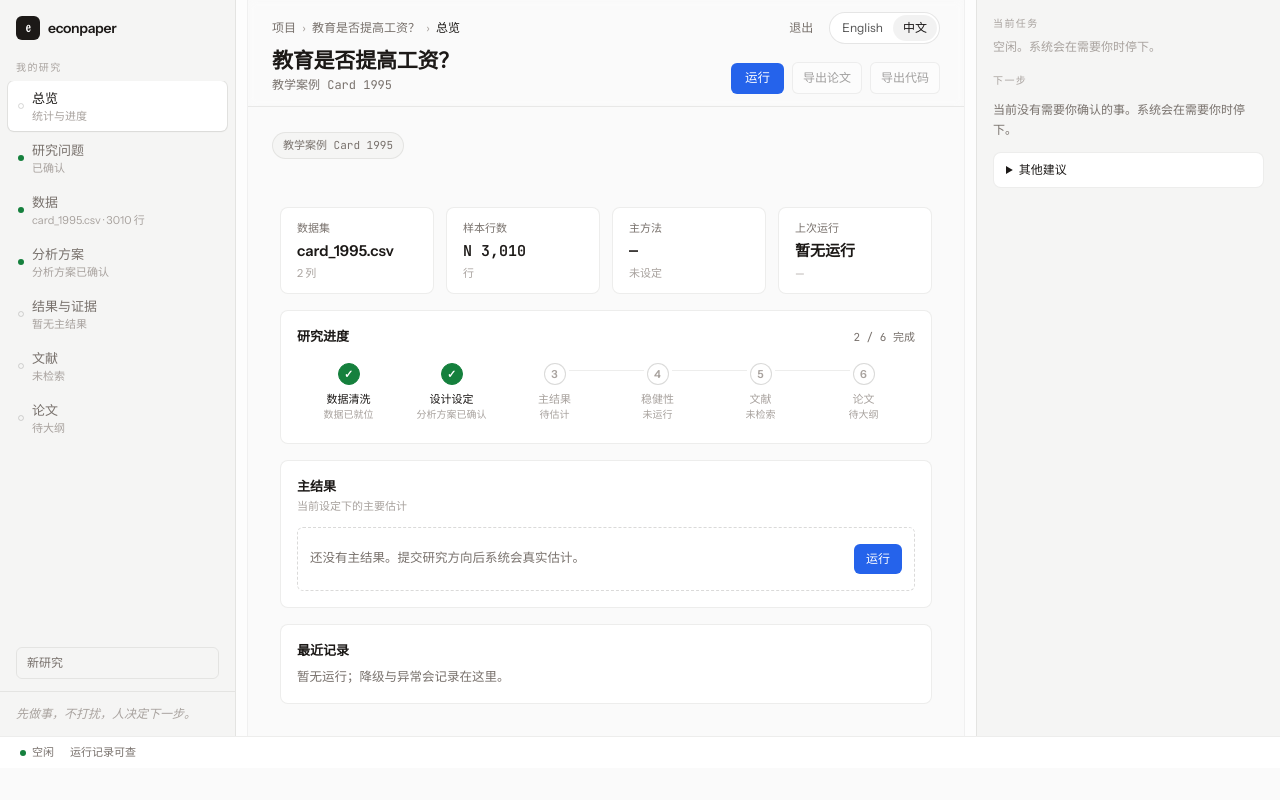
Test: language switch is display-only › Scene D: r3 surprise observed from backend outcomes re-renders per language with no writes
Click the button with test id "rail-evidence".
click(118, 314)  # box [8,289,227,339]
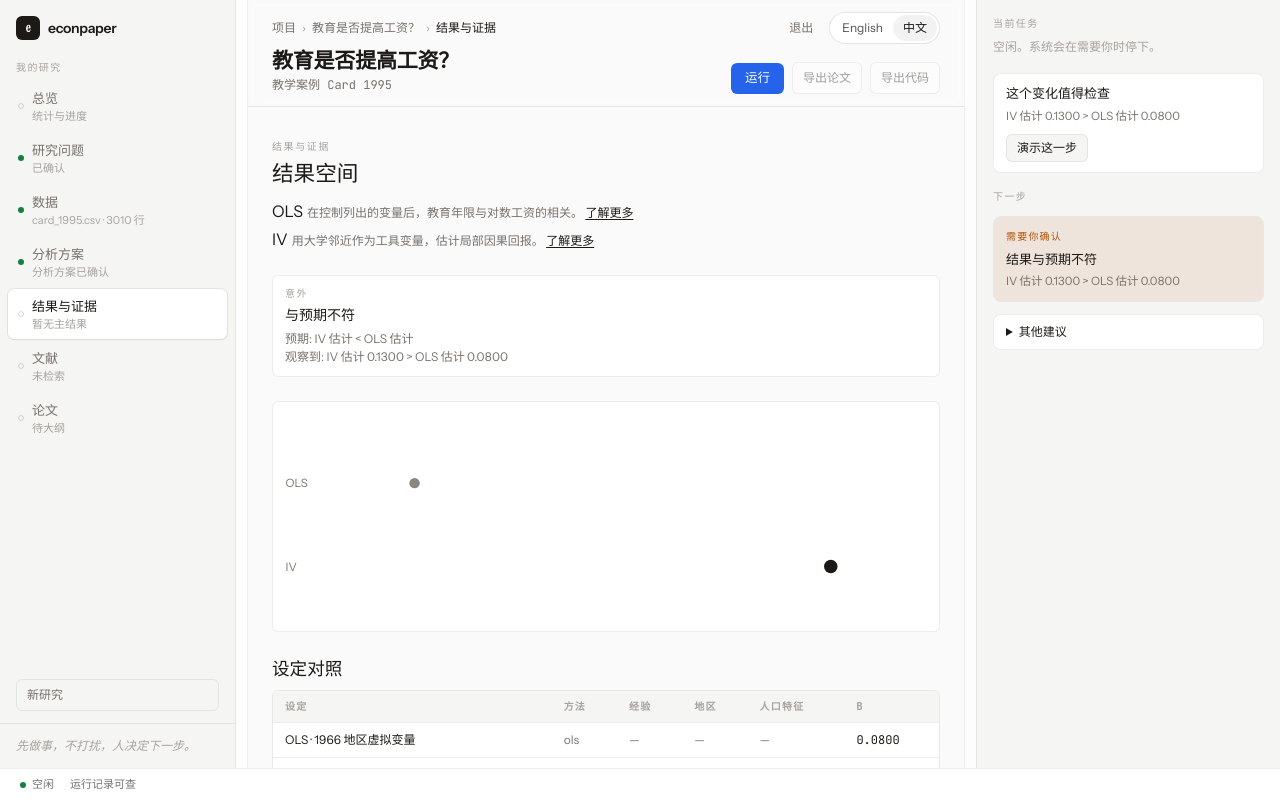
Check: the element with test id "evidence-surprise" is shown, box [272,275,940,377]
Check: the element with test id "evidence-surprise" shows "IV 估计 0.1300 > OLS 估计 0.0800", box [326,349,508,364]
Click the button "English".
click(863, 28)  # box [832,15,893,41]
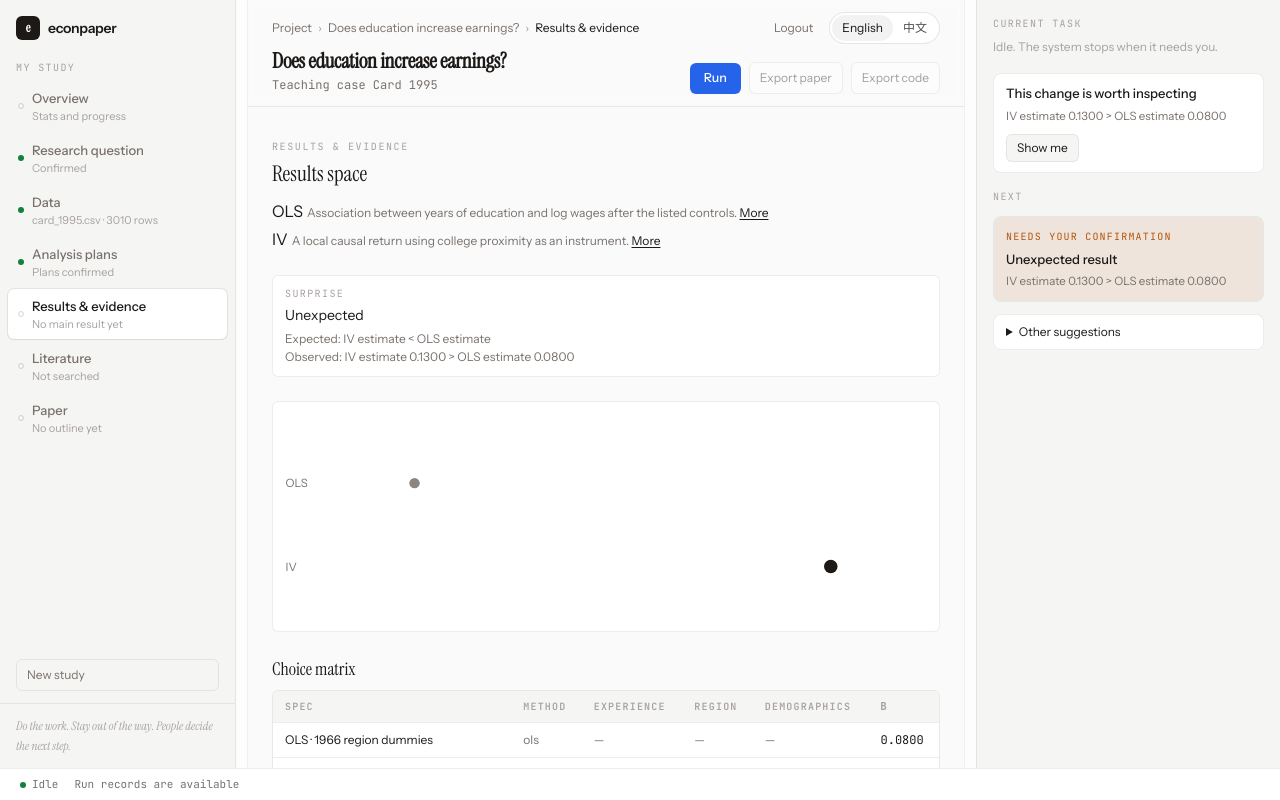
Check: the element with test id "evidence-surprise" shows "IV estimate 0.1300 > OLS estimate 0.0800", box [344,349,575,364]
Click the button "中文".
click(915, 28)  # box [893,15,937,41]
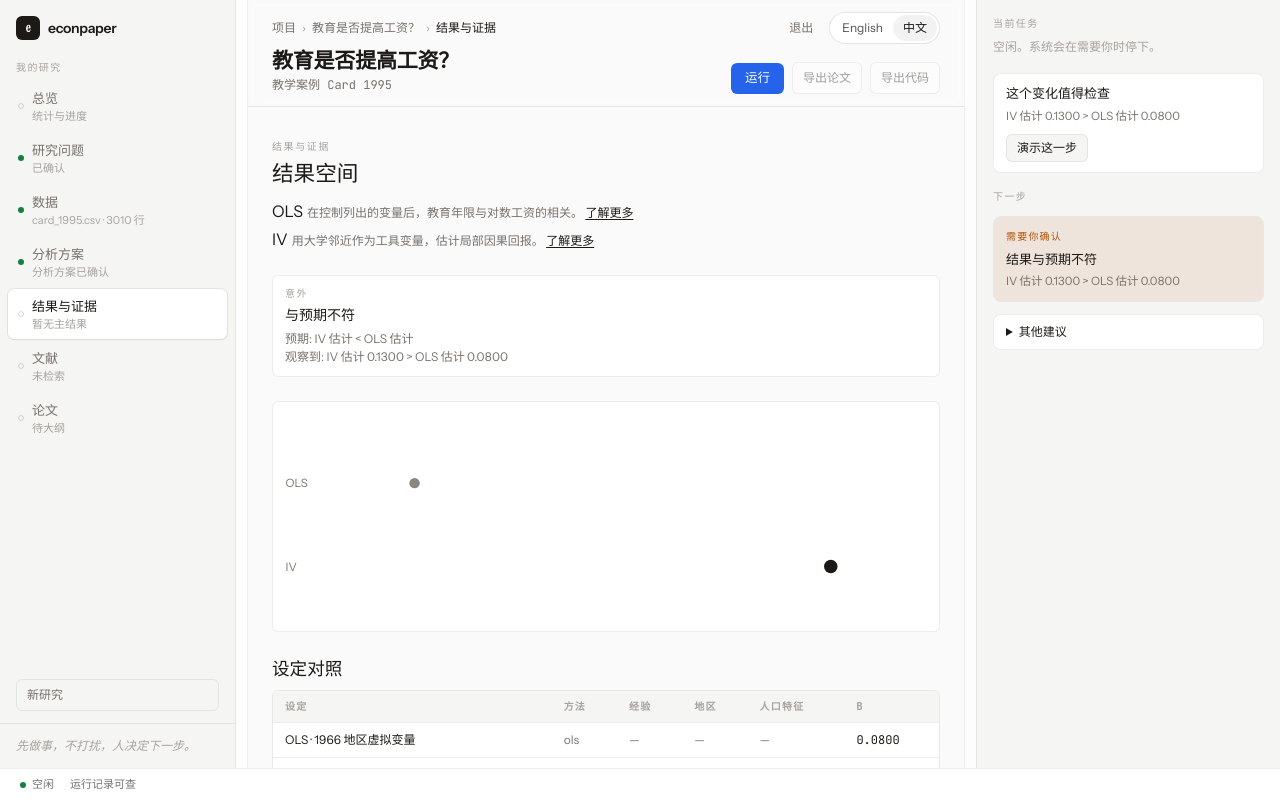
Check: the element with test id "evidence-surprise" shows "IV 估计 0.1300 > OLS 估计 0.0800", box [326,349,508,364]
